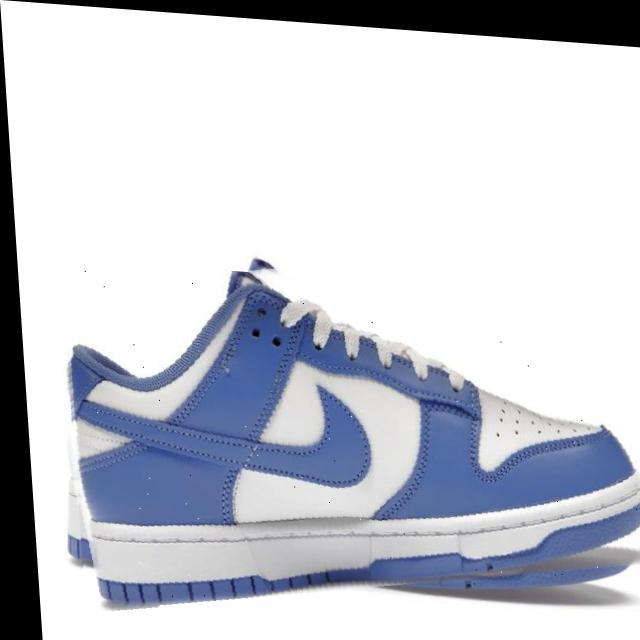J1_InsoleChar: (3, 3, 637, 634)
J1_ShoeLogo: (64, 256, 638, 606)
J1_StitchPattern: (71, 487, 637, 605), (277, 294, 602, 442), (93, 547, 635, 606), (79, 495, 637, 548), (71, 390, 370, 486), (277, 295, 467, 392), (72, 402, 253, 476), (475, 393, 608, 476), (95, 568, 358, 606), (490, 396, 600, 443), (72, 417, 147, 472), (491, 399, 526, 440)
